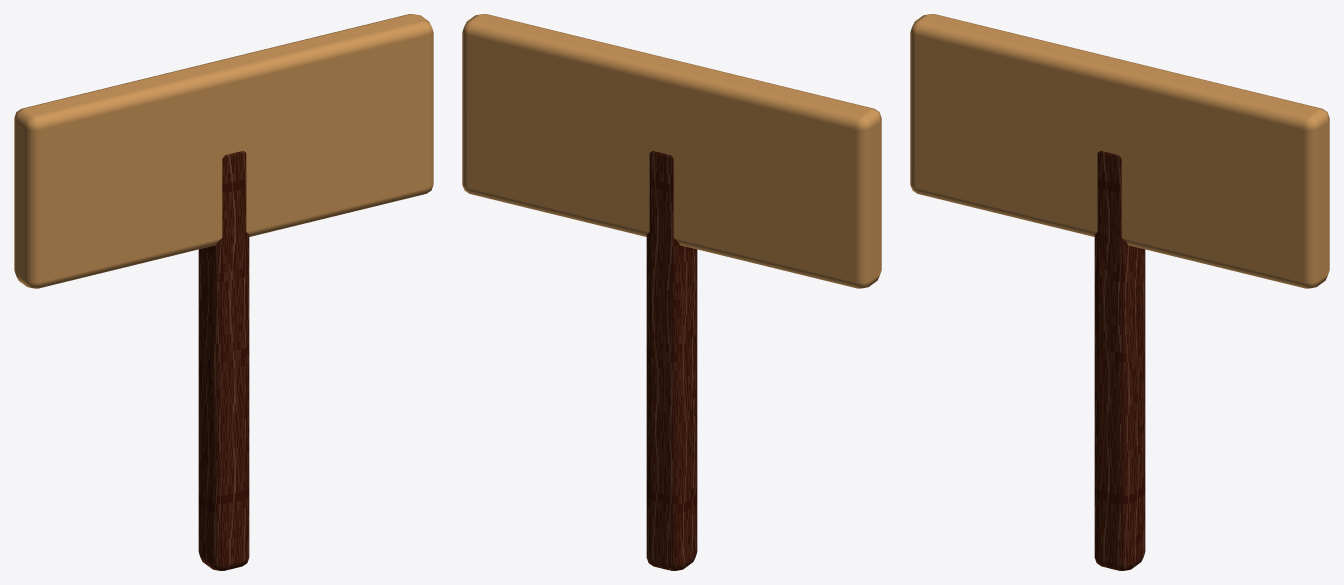
Rendered from sign.glb.
3 renders of one model, left to right at view 1: azimuth 30°, elevation 25°; view 2: azimuth 150°, elevation 25°; view 3: azimuth 330°, elevation 25°, orthographic.
Visible parts, largest first — view 1: sign_board, sign_post; view 2: sign_board, sign_post; view 3: sign_board, sign_post.
Boxes of the visible parts, x1,y1,x2,y2 form: sign_board: (14, 14, 433, 288); sign_post: (198, 151, 249, 570); sign_board: (462, 14, 881, 288); sign_post: (646, 151, 697, 570); sign_board: (910, 14, 1329, 288); sign_post: (1094, 151, 1145, 570).
Size of the model in its own units: 1.6 by 1.87 by 0.15.
2 materials, 1 textured.
